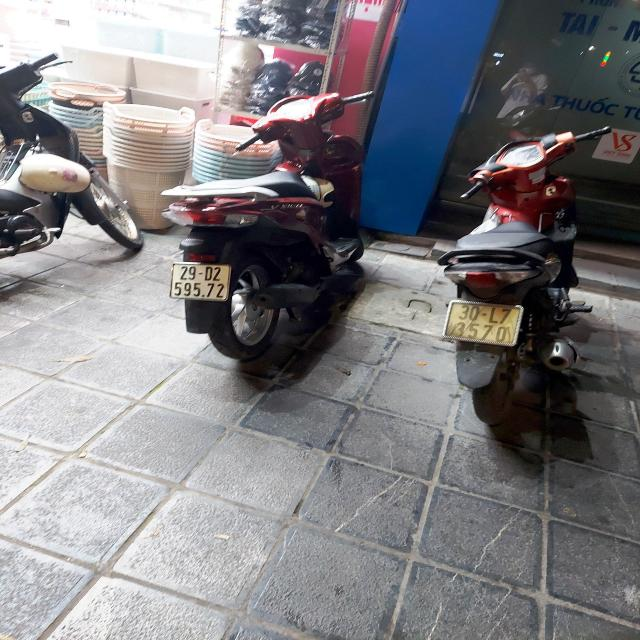license_plate: (441, 299, 526, 350), (169, 262, 231, 303)
